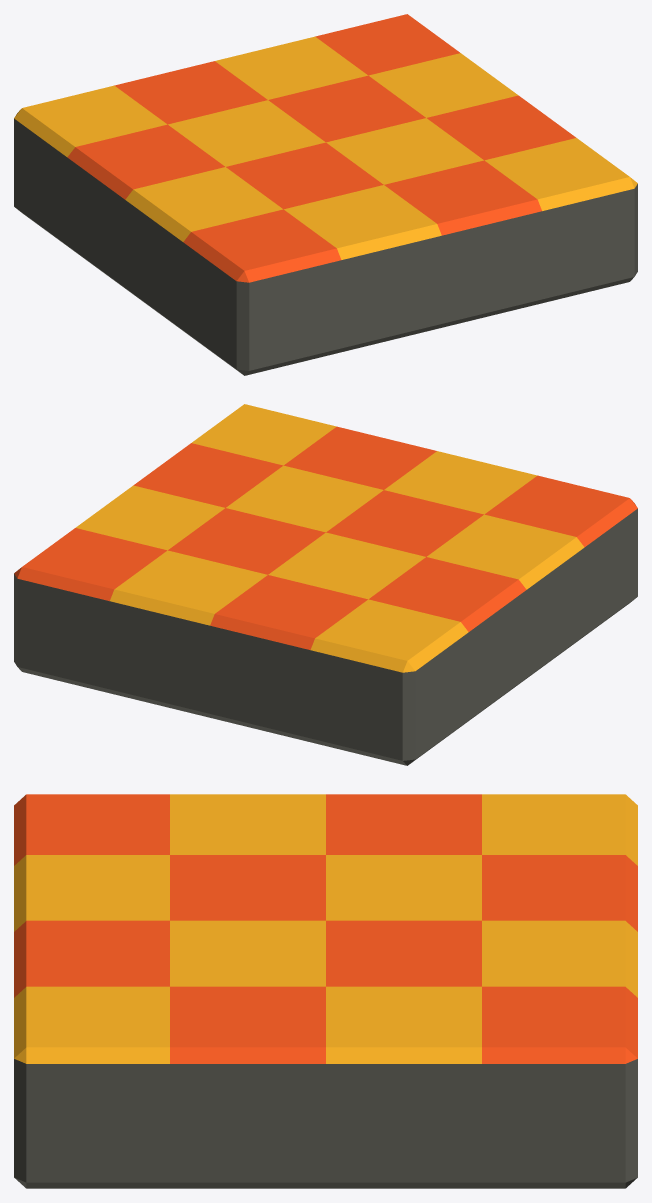
The model's file is LavaBlock.fbx.
3 views of the same model, one above another, from view 1: azimuth 30°, elevation 25°; view 2: azimuth 150°, elevation 25°; view 3: azimuth 270°, elevation 25° (orthographic). The views are drawn at different scales.
Visible parts, largest first — view 1: LavaBlock; view 2: LavaBlock; view 3: LavaBlock.
Boxes of the visible parts, x1,y1,x2,y2 form: LavaBlock: [14, 14, 637, 375]; LavaBlock: [14, 404, 637, 765]; LavaBlock: [14, 794, 637, 1188].
Size of the model in its own units: 4 by 1 by 4.
Materials: 1 (1 with a texture image).
